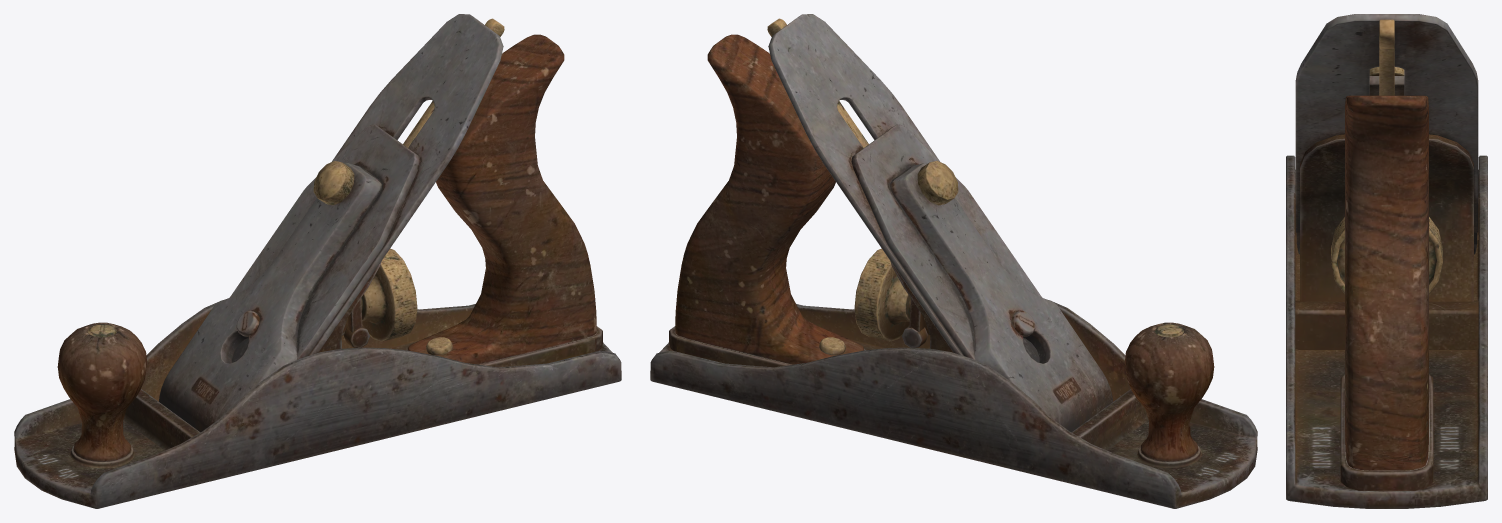
File: hand_plane_no4.glb
3 views of the same model, side by side, from view 1: azimuth 30°, elevation 25°; view 2: azimuth 150°, elevation 25°; view 3: azimuth 270°, elevation 25° (orthographic). The views are drawn at different scales.
Parts seen in each view (by area): view 1: hand_plane_no4; view 2: hand_plane_no4; view 3: hand_plane_no4.
Part boxes in pixels (box(x1,y1,x2,y2)): hand_plane_no4: box(14, 14, 621, 508); hand_plane_no4: box(650, 14, 1257, 508); hand_plane_no4: box(1286, 14, 1487, 508).
Bounding box in the file's own units: 0.3308 × 0.1978 × 0.0843.
Materials: 1 (1 with a texture image).
